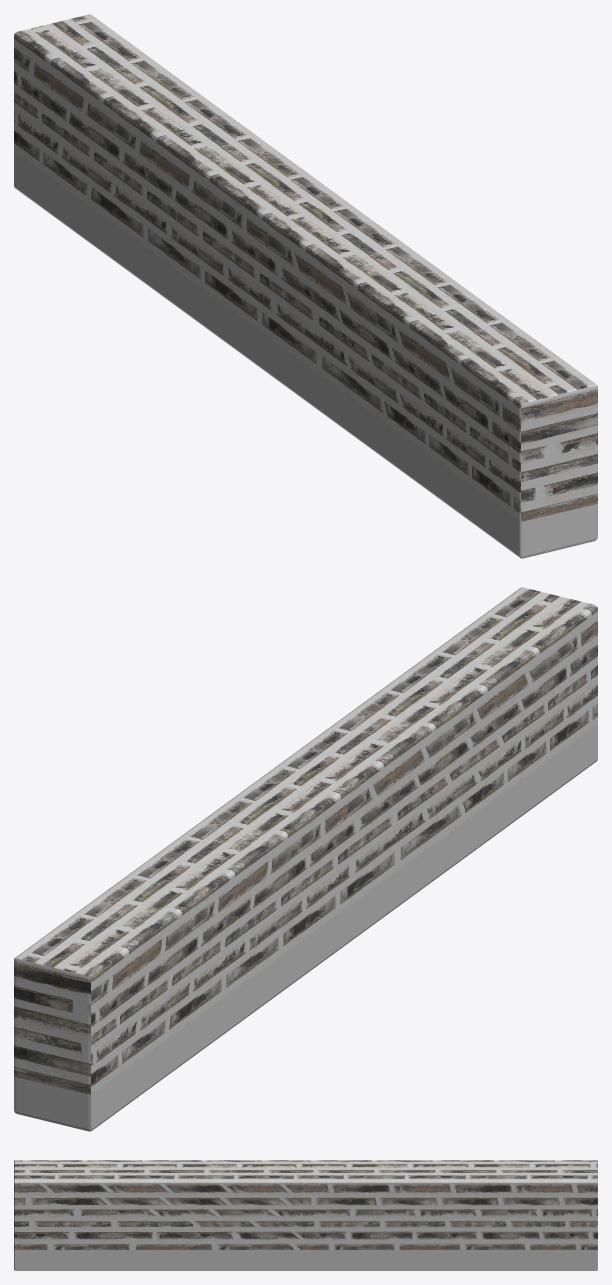
File: SM_Gidan00D.fbx
The picture shows the model from 3 angles, top to bottom: view 1: azimuth 30°, elevation 25°; view 2: azimuth 150°, elevation 25°; view 3: azimuth 270°, elevation 25°; orthographic projection. The views are drawn at different scales.
Visible parts, largest first — view 1: SM_Gidan00D; view 2: SM_Gidan00D; view 3: SM_Gidan00D.
Boxes of the visible parts, <box> form: SM_Gidan00D: <box>14,14,597,558</box>; SM_Gidan00D: <box>14,587,597,1131</box>; SM_Gidan00D: <box>14,1160,597,1270</box>.
Bounding box in the file's own units: 20.05 × 225 × 38.32.
